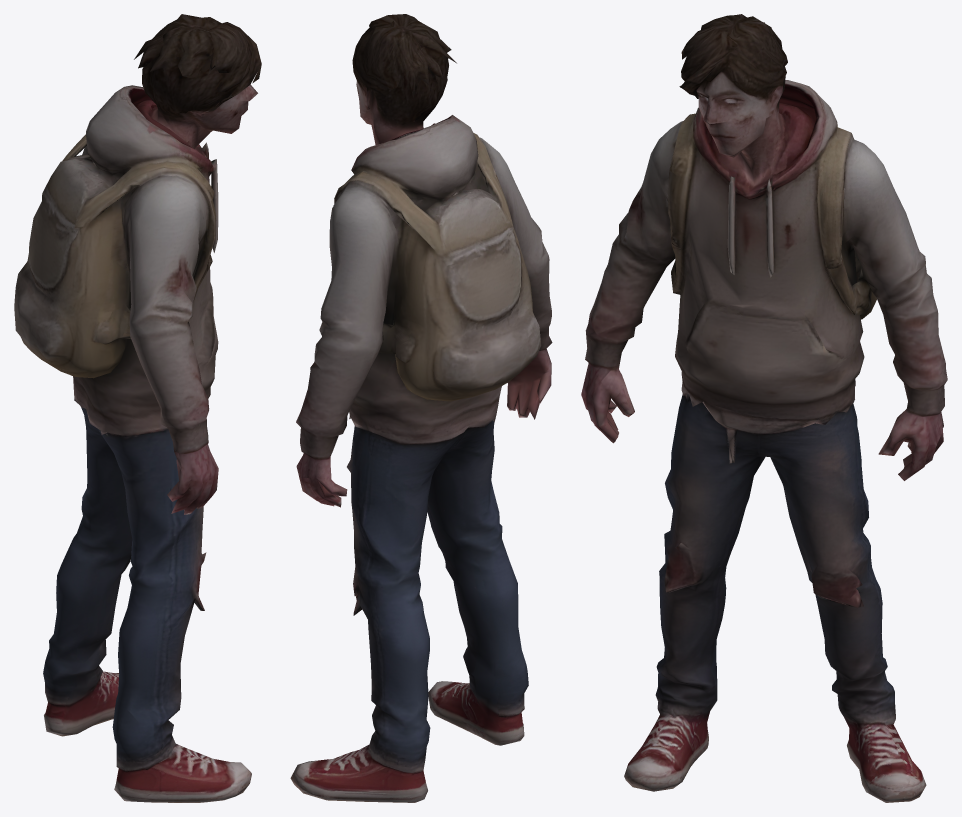
The model's file is survivor+character+3d+model.glb.
3 renders of one model, left to right at view 1: azimuth 30°, elevation 25°; view 2: azimuth 150°, elevation 25°; view 3: azimuth 270°, elevation 25°, orthographic. The views are drawn at different scales.
Parts seen in each view (by area): view 1: tripo_node_d17d2aed-7d76-4446-9078-5fec18027ef6; view 2: tripo_node_d17d2aed-7d76-4446-9078-5fec18027ef6; view 3: tripo_node_d17d2aed-7d76-4446-9078-5fec18027ef6.
Part boxes in pixels (x1,y1,x2,y2): tripo_node_d17d2aed-7d76-4446-9078-5fec18027ef6: [14, 14, 261, 802]; tripo_node_d17d2aed-7d76-4446-9078-5fec18027ef6: [290, 14, 552, 802]; tripo_node_d17d2aed-7d76-4446-9078-5fec18027ef6: [581, 14, 947, 802].
Bounding box in the file's own units: 0.2744 × 0.9931 × 0.4269.
1 material, 1 textured.
